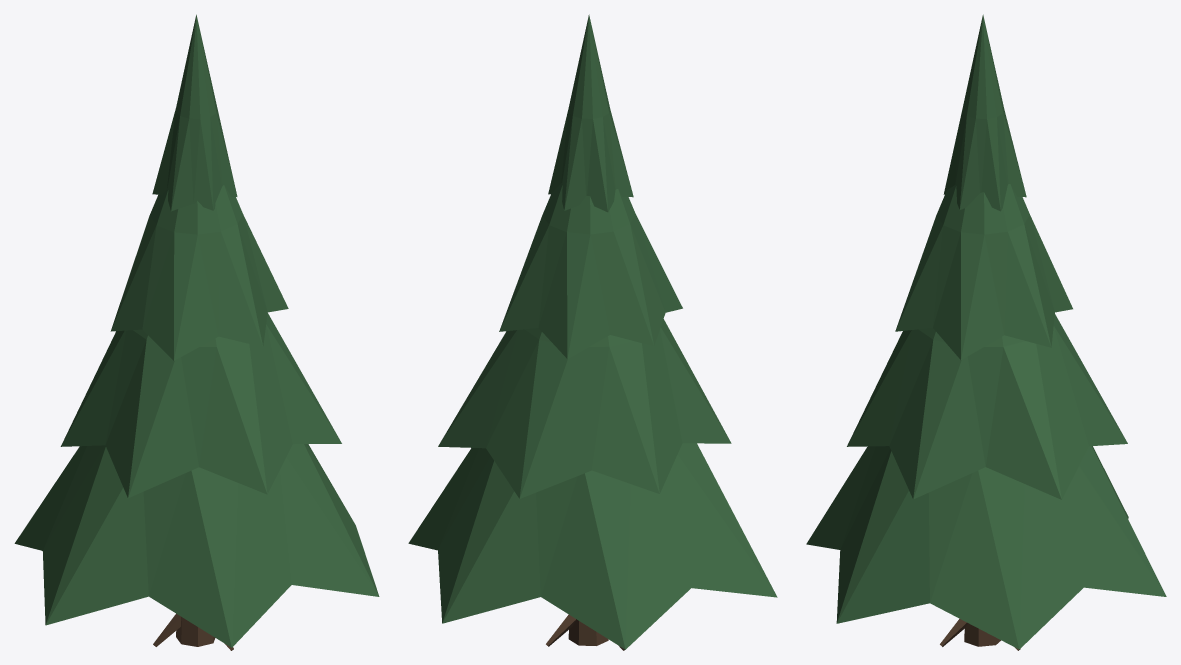
Rendered from conifer_a.glb.
The picture shows the model from 3 angles, left to right: view 1: azimuth 30°, elevation 25°; view 2: azimuth 150°, elevation 25°; view 3: azimuth 270°, elevation 25°; orthographic projection.
Parts seen in each view (by area): view 1: Conifer_Leaves, Conifer_Trunk; view 2: Conifer_Leaves, Conifer_Trunk; view 3: Conifer_Leaves, Conifer_Trunk.
Part boxes in pixels (<box>): Conifer_Leaves: <box>14,14,379,647</box>; Conifer_Trunk: <box>153,613,233,650</box>; Conifer_Leaves: <box>408,14,777,649</box>; Conifer_Trunk: <box>546,614,624,650</box>; Conifer_Leaves: <box>806,14,1166,649</box>; Conifer_Trunk: <box>940,618,1020,650</box>.
Bounding box in the file's own units: 3.34 × 6.01 × 3.14.
